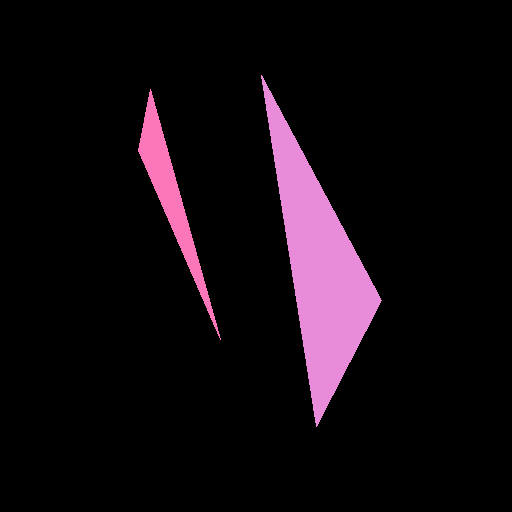triangle: (261, 75, 381, 426), (138, 89, 220, 339)
